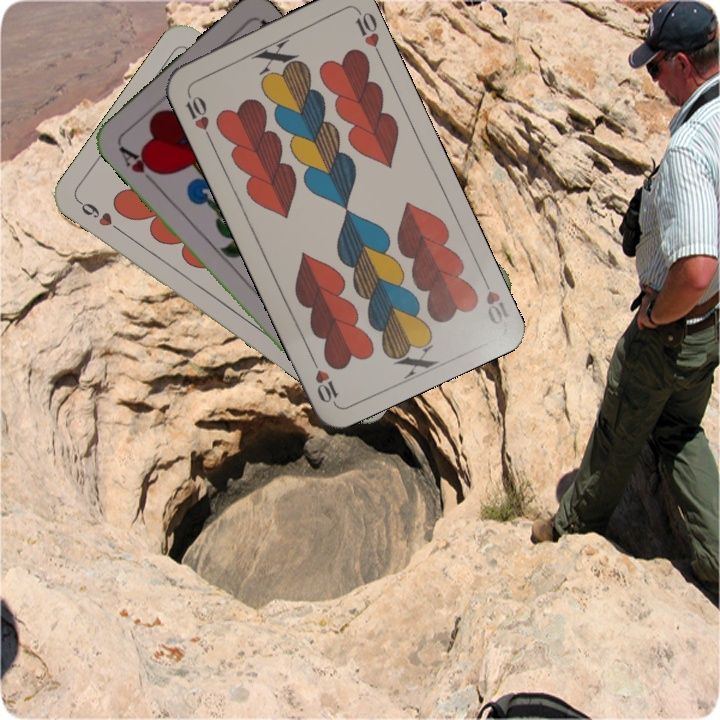H10: (477, 269, 512, 328), (181, 86, 214, 142)
H9: (74, 196, 126, 236)
HA: (114, 141, 164, 188)
